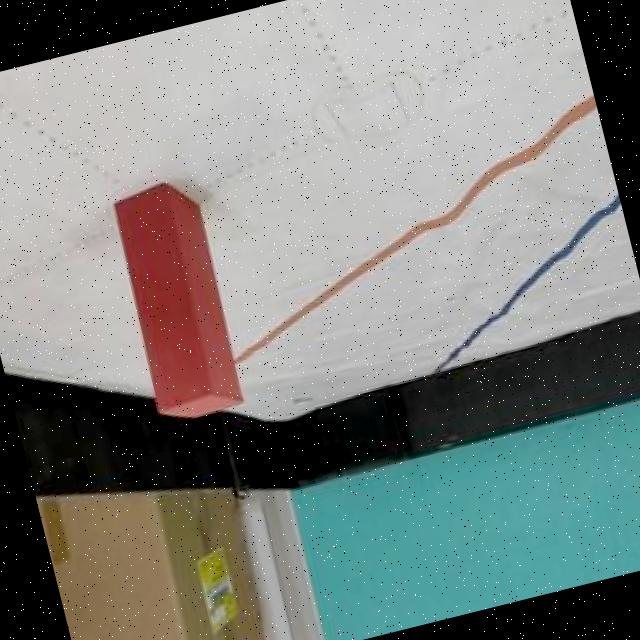redbox: (102, 172, 253, 430)
